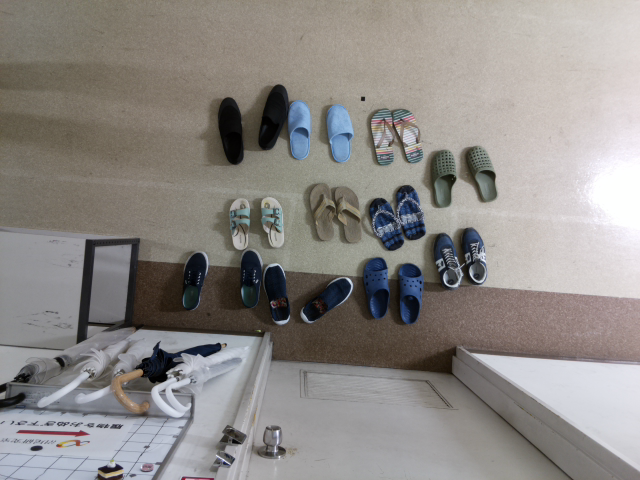Copy of Copy of Copy of Copy of Copy of Copy of Copy of Copy of Copy of Copy of: (297, 274, 356, 325), (229, 246, 267, 310), (174, 249, 211, 313), (260, 258, 294, 327), (393, 261, 426, 328), (430, 231, 467, 290), (360, 255, 392, 322), (331, 183, 365, 244), (304, 183, 338, 243), (457, 227, 490, 285), (257, 194, 290, 252), (223, 194, 256, 252)
Copy of Copy of Copy of Copy of Copy of Copy of Copy of Copy of Copy of shoe: (367, 194, 404, 253)
Copy of Copy of Copy of Copy of Copy of Copy of Copy of Copy of shoe: (394, 183, 429, 244)
Copy of Copy of Copy of Copy of Copy of Copy of Copy of shoe: (463, 144, 501, 205)
Copy of Copy of Copy of Copy of Copy of Copy of shoe: (429, 146, 459, 210)
Copy of Copy of Copy of Copy of Copy of shoe: (390, 104, 426, 166)
Copy of Copy of Copy of Copy of shoe: (367, 105, 396, 167)
Copy of Copy of Copy of shoe: (321, 101, 355, 167)
Copy of Copy of shoe: (286, 97, 315, 166)
Copy of shoe: (254, 82, 291, 155)
shoe: (212, 94, 249, 167)
